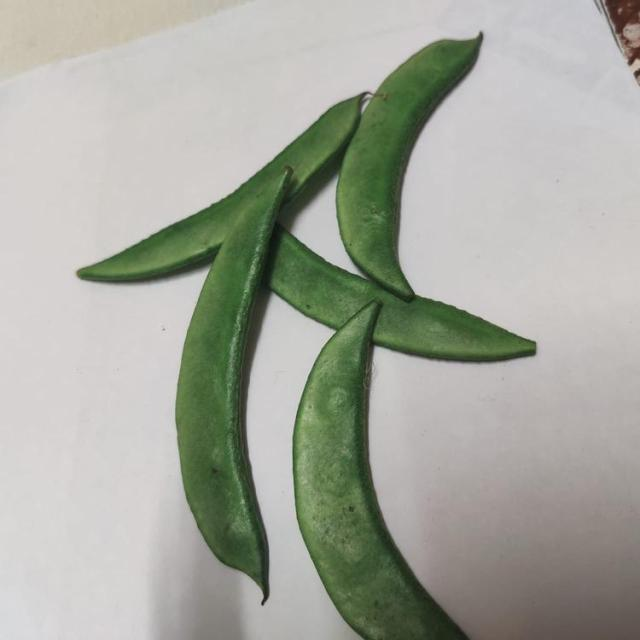Organik: (300, 303, 469, 640), (75, 98, 361, 283), (178, 168, 290, 604), (328, 31, 479, 300)
